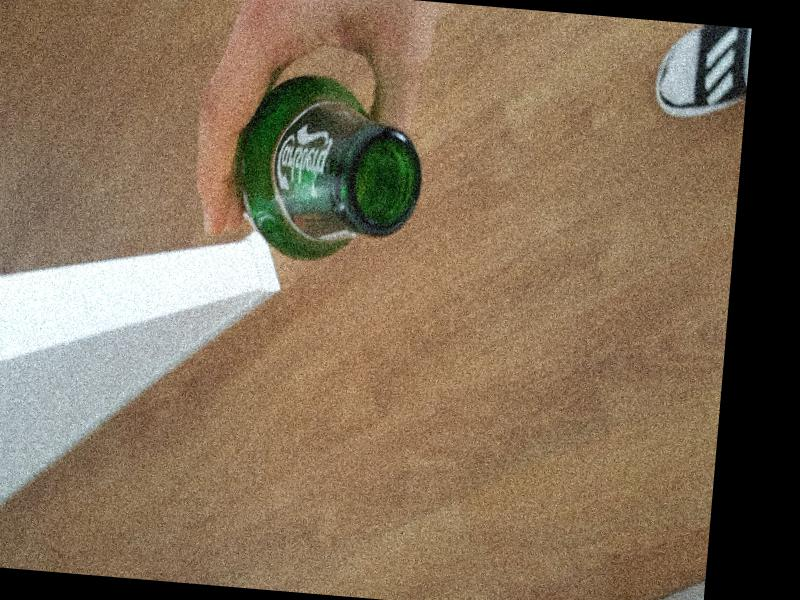Beer: (229, 66, 429, 270)
